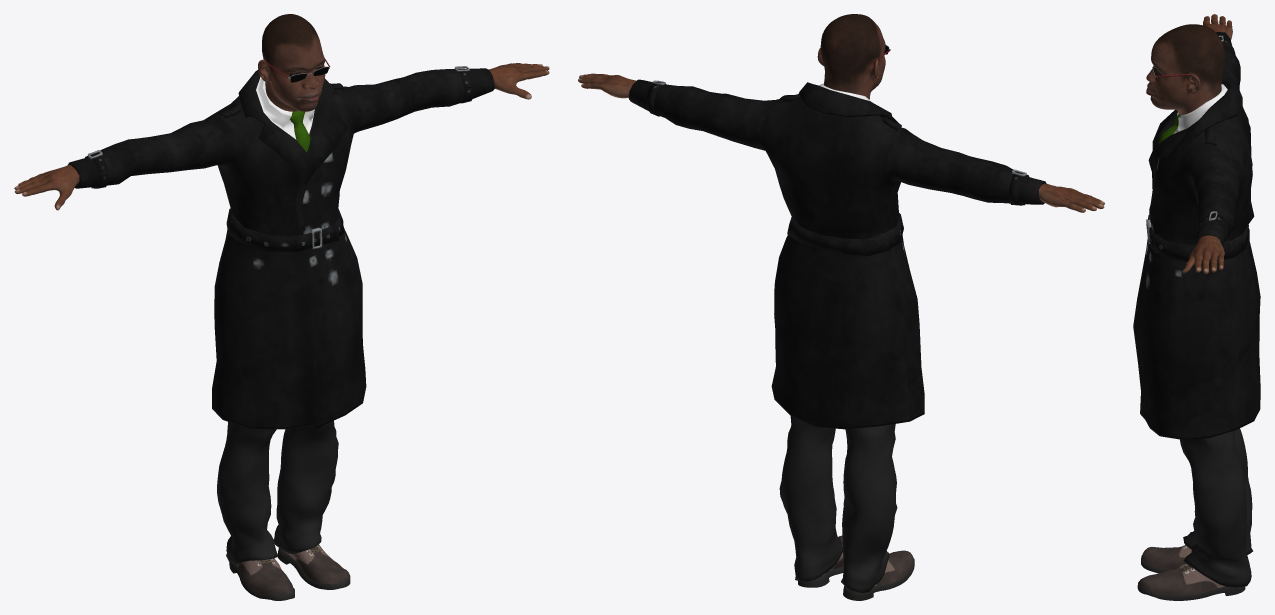
File: blacker lawyer.obj
The picture shows the model from 3 angles, left to right: view 1: azimuth 30°, elevation 25°; view 2: azimuth 150°, elevation 25°; view 3: azimuth 270°, elevation 25°; orthographic projection.
Parts seen in each view (by area): view 1: Tops, Bottoms, Body, Shoes; view 2: Tops, Bottoms, Body, Shoes; view 3: Tops, Bottoms, Body, Shoes.
Part boxes in pixels (x1,y1,x2,y2): Tops: (67,66,494,429); Bottoms: (217,420,338,564); Body: (14,14,549,210); Shoes: (229,544,350,600); Tops: (628,79,1046,429); Bottoms: (779,416,897,593); Body: (578,14,1104,212); Shoes: (798,535,914,600); Tops: (1133,32,1260,439); Bottoms: (1180,428,1252,587); Body: (1146,14,1232,273); Shoes: (1137,544,1245,600).
Size of the model in its own units: 175 by 177 by 36.87.
Materials: 1 (1 with a texture image).
